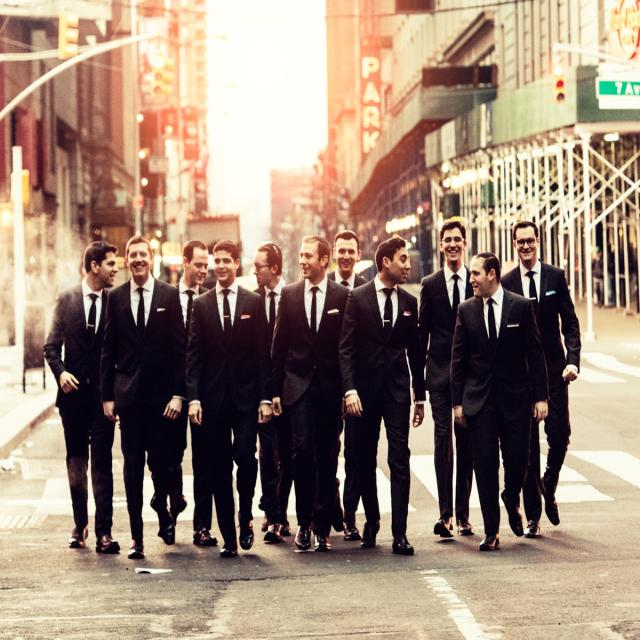body: (445, 249, 554, 554), (95, 232, 192, 564), (180, 235, 276, 561), (334, 233, 428, 558), (498, 219, 583, 539), (269, 234, 352, 556), (41, 238, 122, 556), (412, 218, 485, 538), (167, 238, 220, 548), (326, 229, 372, 543), (250, 242, 293, 538)
